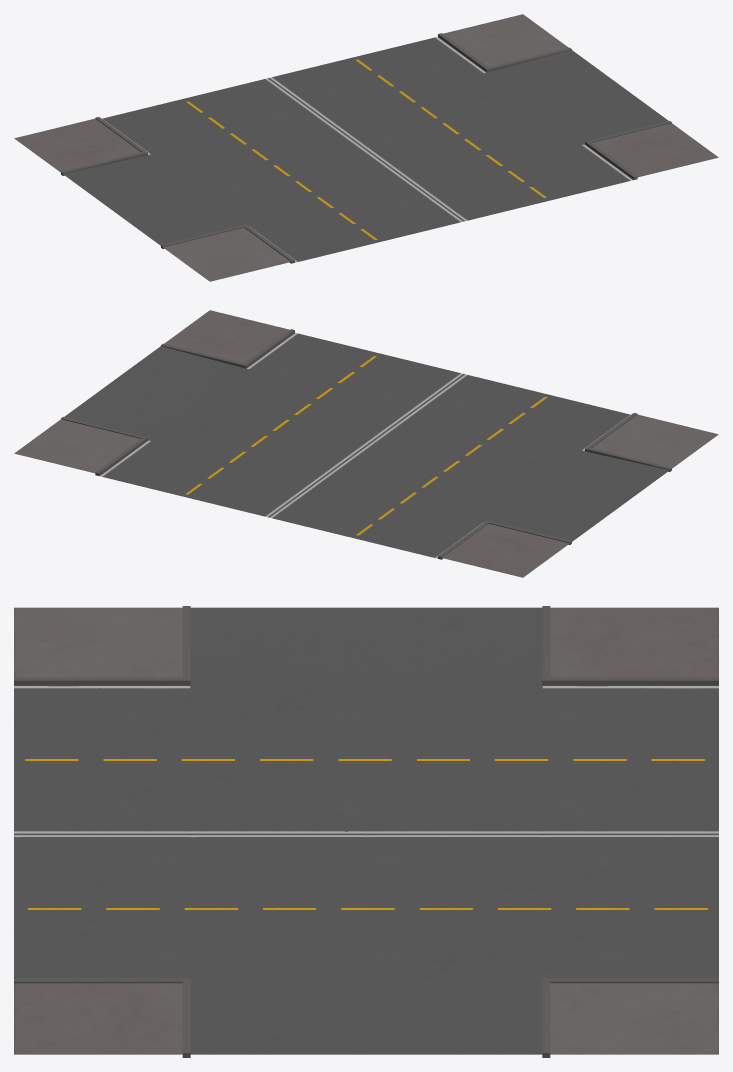
Rendered from SM_Floor_Road_18_UP_02.fbx.
The picture shows the model from 3 angles, top to bottom: view 1: azimuth 30°, elevation 25°; view 2: azimuth 150°, elevation 25°; view 3: azimuth 270°, elevation 25°; orthographic projection. The views are drawn at different scales.
Parts seen in each view (by area): view 1: SM_Floor_Road_18_UP_02; view 2: SM_Floor_Road_18_UP_02; view 3: SM_Floor_Road_18_UP_02.
Part boxes in pixels (x1,y1,x2,y2): SM_Floor_Road_18_UP_02: [14, 14, 718, 281]; SM_Floor_Road_18_UP_02: [14, 310, 718, 577]; SM_Floor_Road_18_UP_02: [14, 606, 718, 1057].
Size of the model in its own units: 15 by 0.075 by 10.
